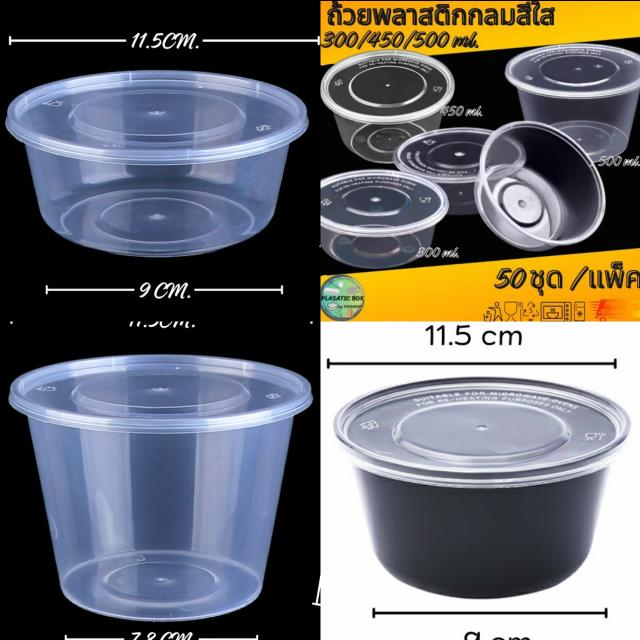plastik: (9, 353, 311, 620), (333, 376, 629, 597), (5, 70, 307, 255), (474, 121, 604, 249), (504, 43, 640, 161), (319, 49, 453, 161), (319, 168, 448, 268), (392, 127, 491, 214)
